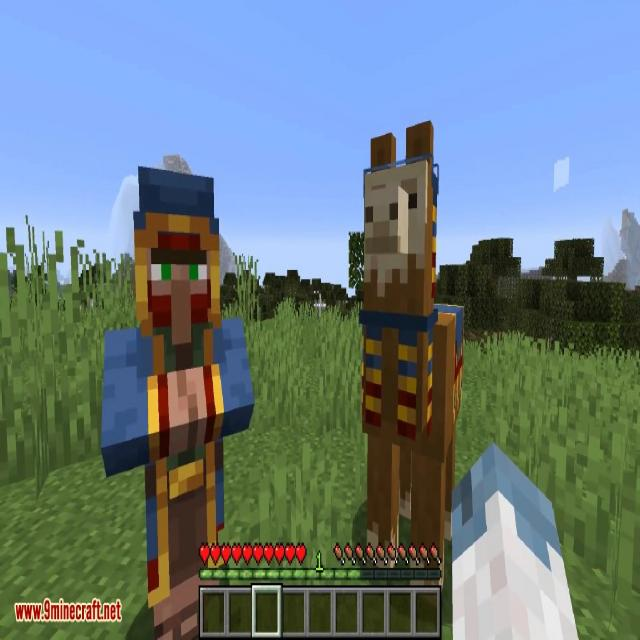Trader Lama: (358, 117, 465, 586)
